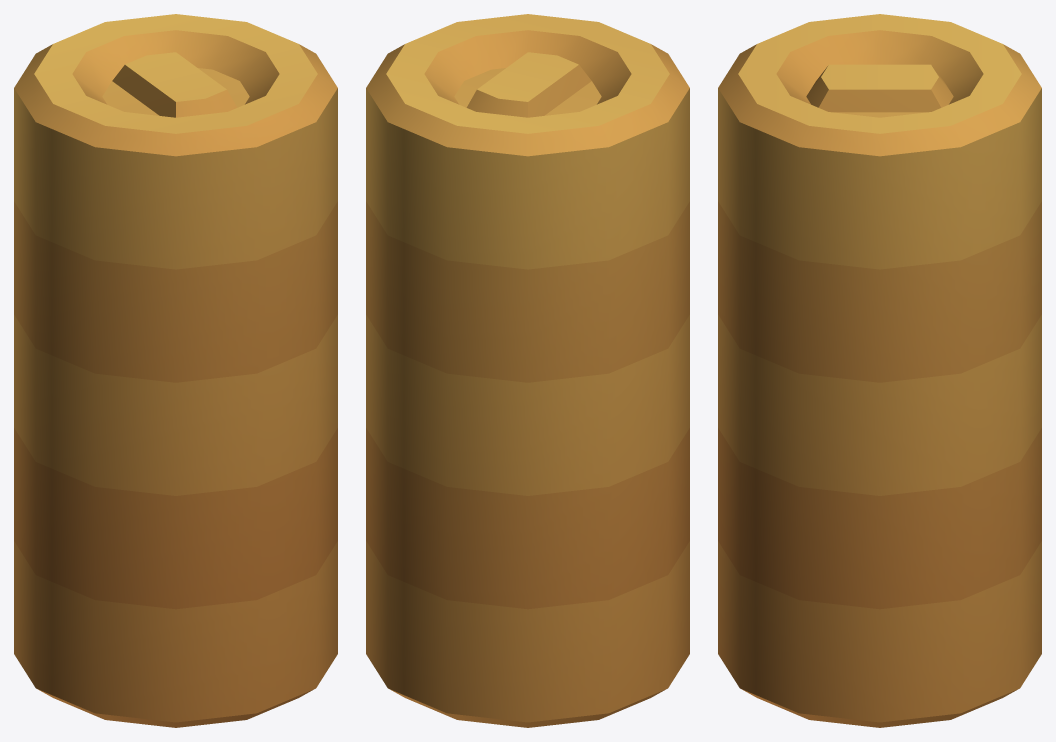
File: Money_Coins_Stack_Medium.glb
3 renders of one model, left to right at view 1: azimuth 30°, elevation 25°; view 2: azimuth 150°, elevation 25°; view 3: azimuth 270°, elevation 25°, orthographic.
Parts seen in each view (by area): view 1: Money_Coins_Stack_Medium; view 2: Money_Coins_Stack_Medium; view 3: Money_Coins_Stack_Medium.
Part boxes in pixels (x1,y1,x2,y2): Money_Coins_Stack_Medium: (14,14,337,727); Money_Coins_Stack_Medium: (366,14,689,727); Money_Coins_Stack_Medium: (718,14,1041,727).
Bounding box in the file's own units: 0.247 × 0.5 × 0.247.
Materials: 1 (1 with a texture image).
